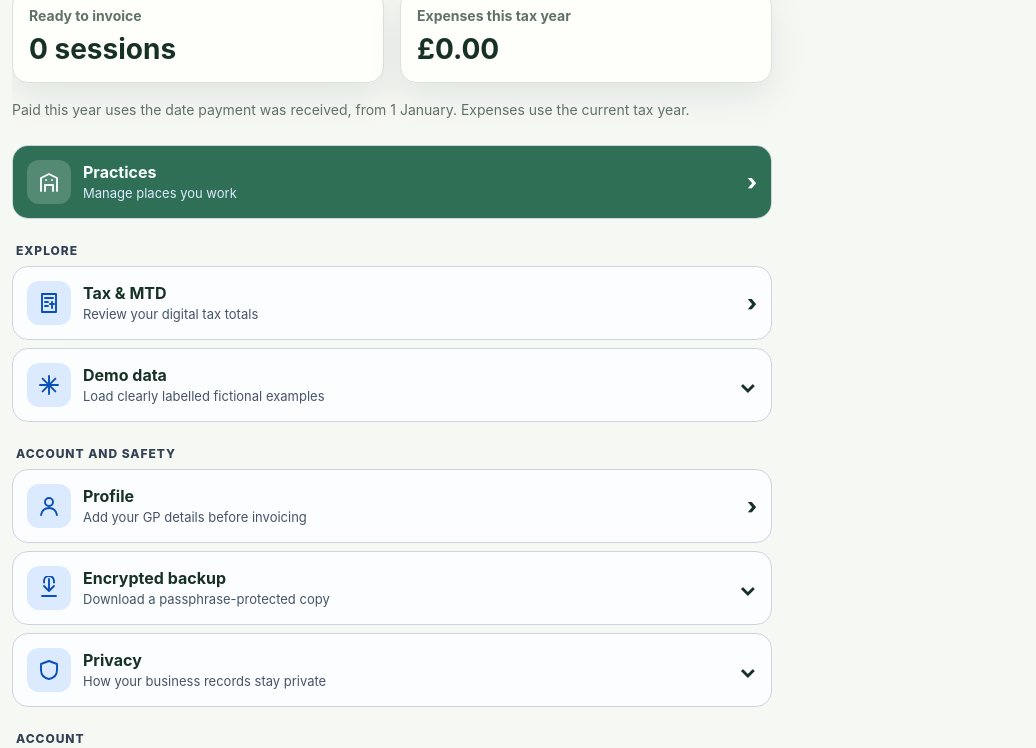
loads the standalone demo data and synchronises it
(page scrolled)
Click the button "Demo data Load clearly labelled fictional examples ⌄": (49, 385) 13,349 -> 771,421
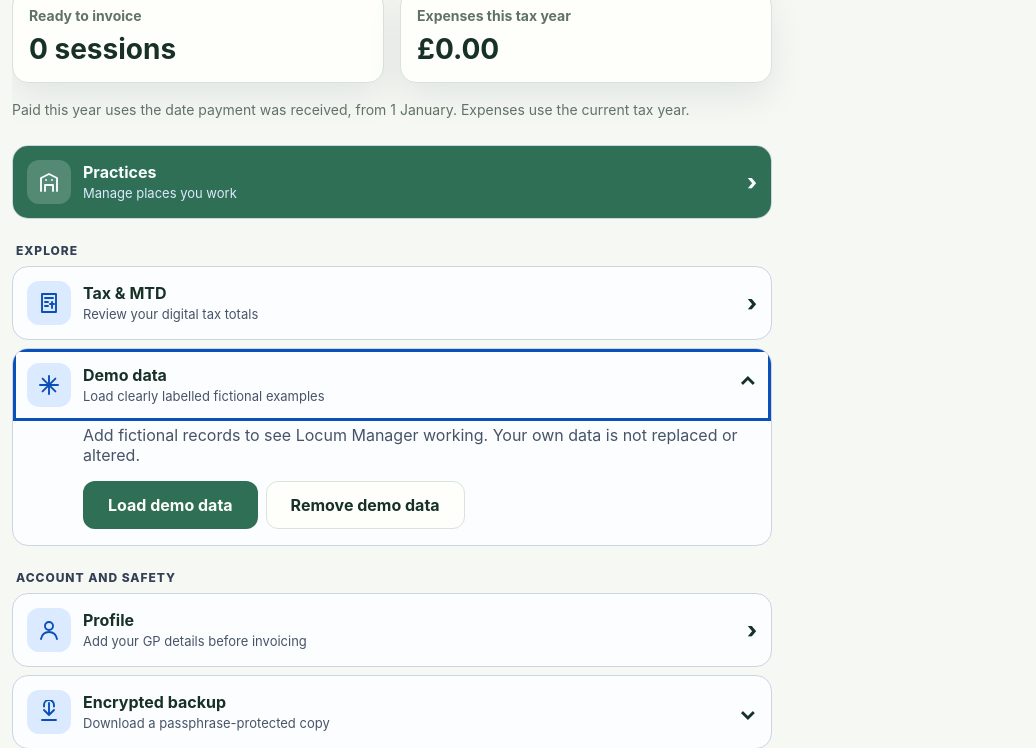
Click the button "Load demo data": (170, 505) 83,481 -> 258,529
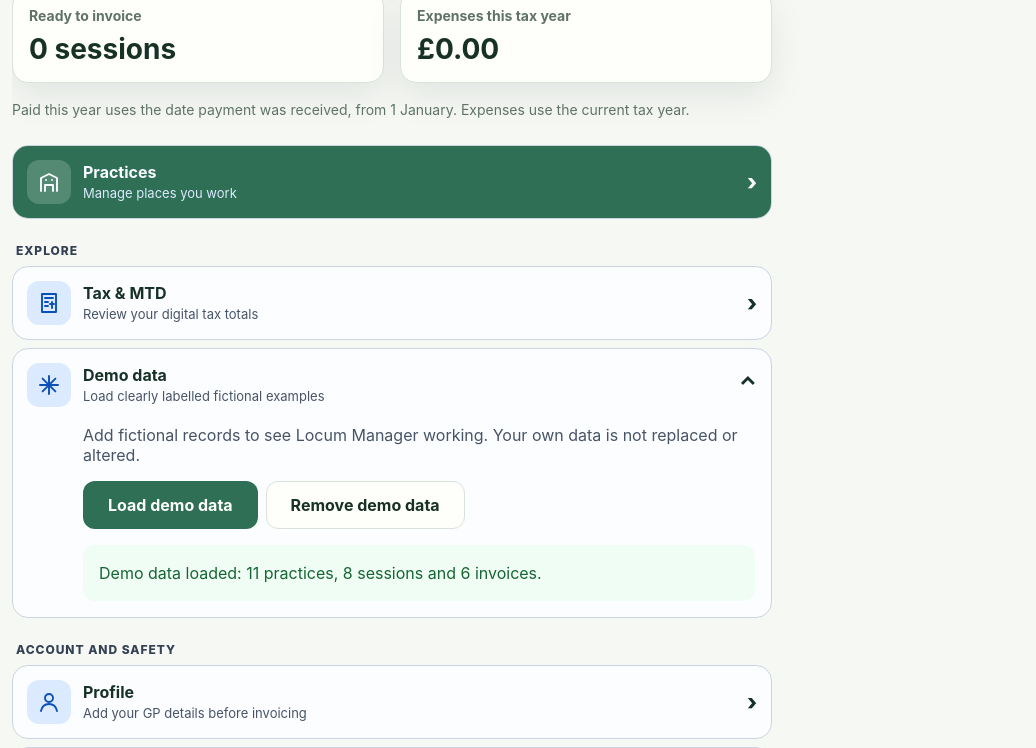
Expected: the message reads "Demo data loaded: 11 practices, 8 sessions and 6 invoices.", 99,563 -> 542,583
